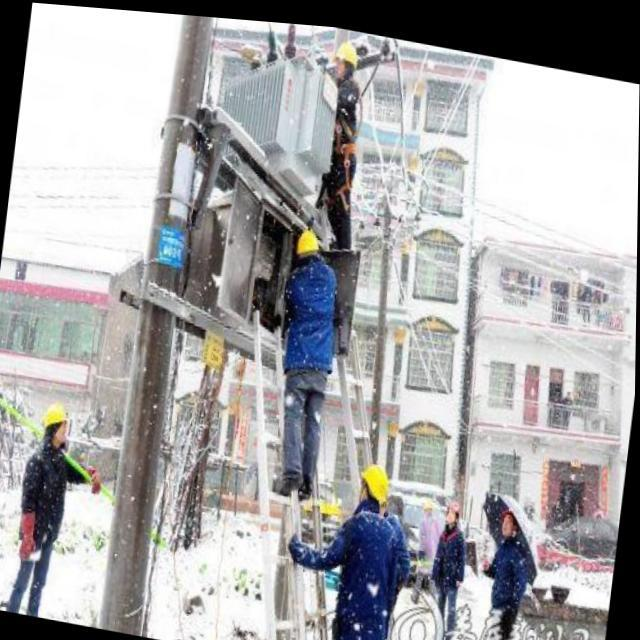belt: (322, 119, 366, 199)
